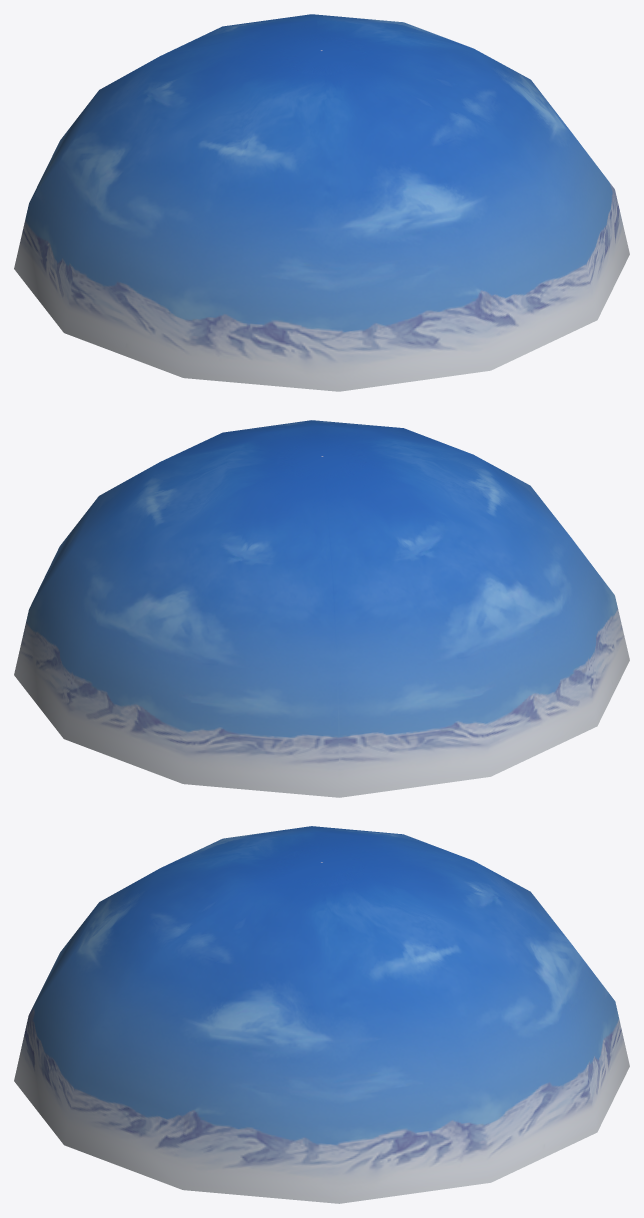
Rendered from env_tat_kraytraid_01_pre.glb.
3 views of the same model, one above another, from view 1: azimuth 30°, elevation 25°; view 2: azimuth 150°, elevation 25°; view 3: azimuth 270°, elevation 25° (orthographic).
Visible parts, largest first — view 1: skybox_01_mesh; view 2: skybox_01_mesh; view 3: skybox_01_mesh.
Boxes of the visible parts, x1,y1,x2,y2 form: skybox_01_mesh: (14,14,629,391); skybox_01_mesh: (14,420,629,797); skybox_01_mesh: (14,826,629,1203).
Size of the model in its own units: 723 by 274 by 723.
Materials: 5 (5 with a texture image).
